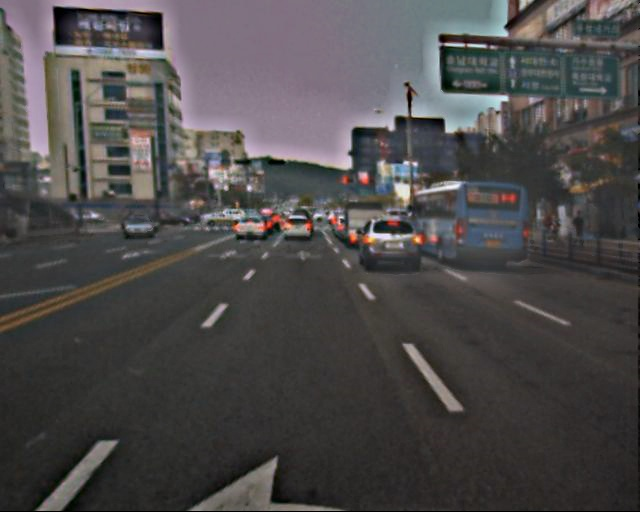person: (570, 212, 587, 253), (542, 212, 560, 242)
